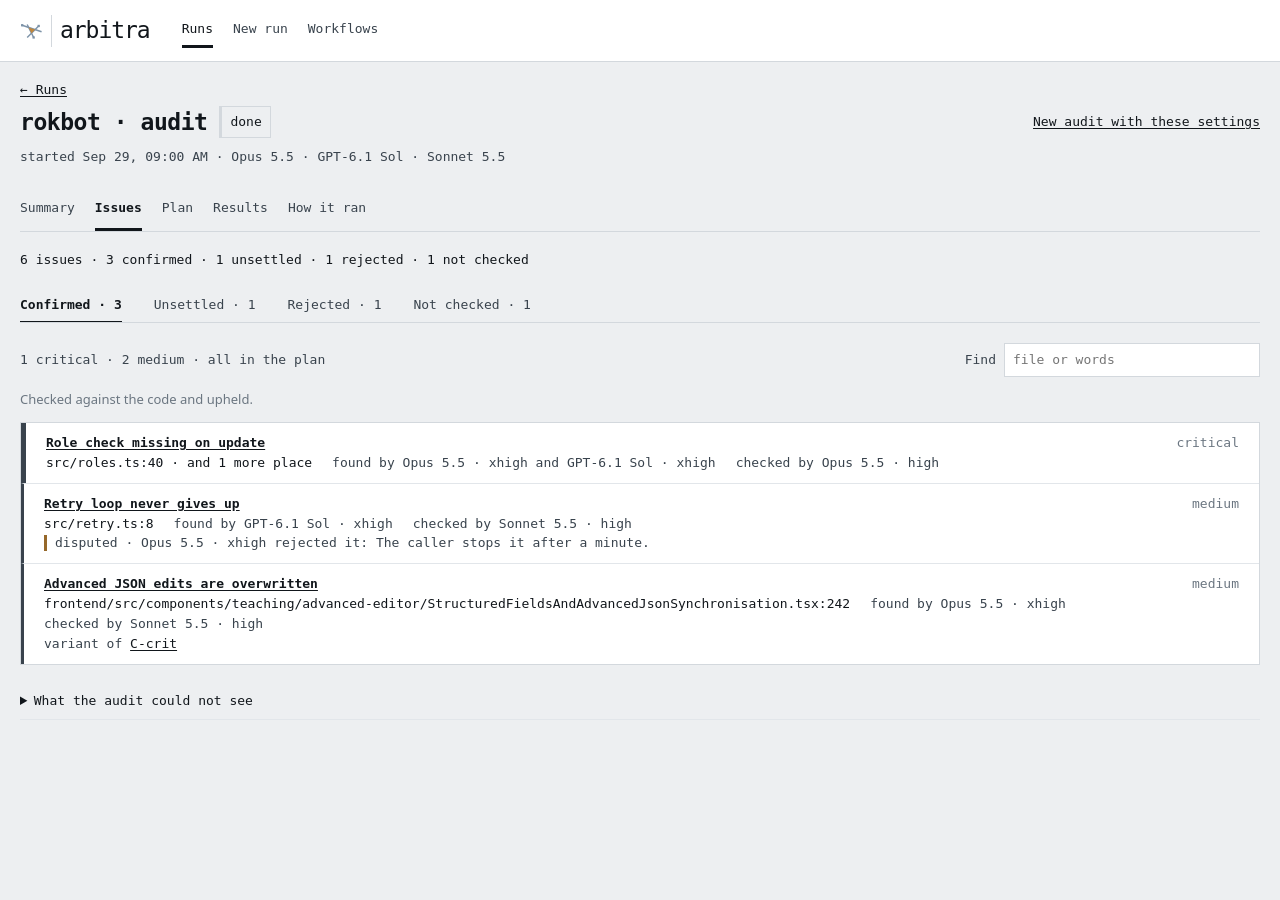
Test: the Issues tab › groups the issues by what the check decided, most severe first, each with its place, who found it and who checked it, by model and effort
Expected: the text "6 issues · 3 confirmed · 1 unsettled · 1 rejected · 1 not checked" is shown, left=20, top=252, right=529, bottom=267
Expected: the text "1 critical · 2 medium · all in the plan" is shown, left=20, top=352, right=325, bottom=368
What coordinates should you click on to do the following:
click the link "C-crit"
I would click on:
 (154, 643)
Its box is left=130, top=636, right=177, bottom=651.
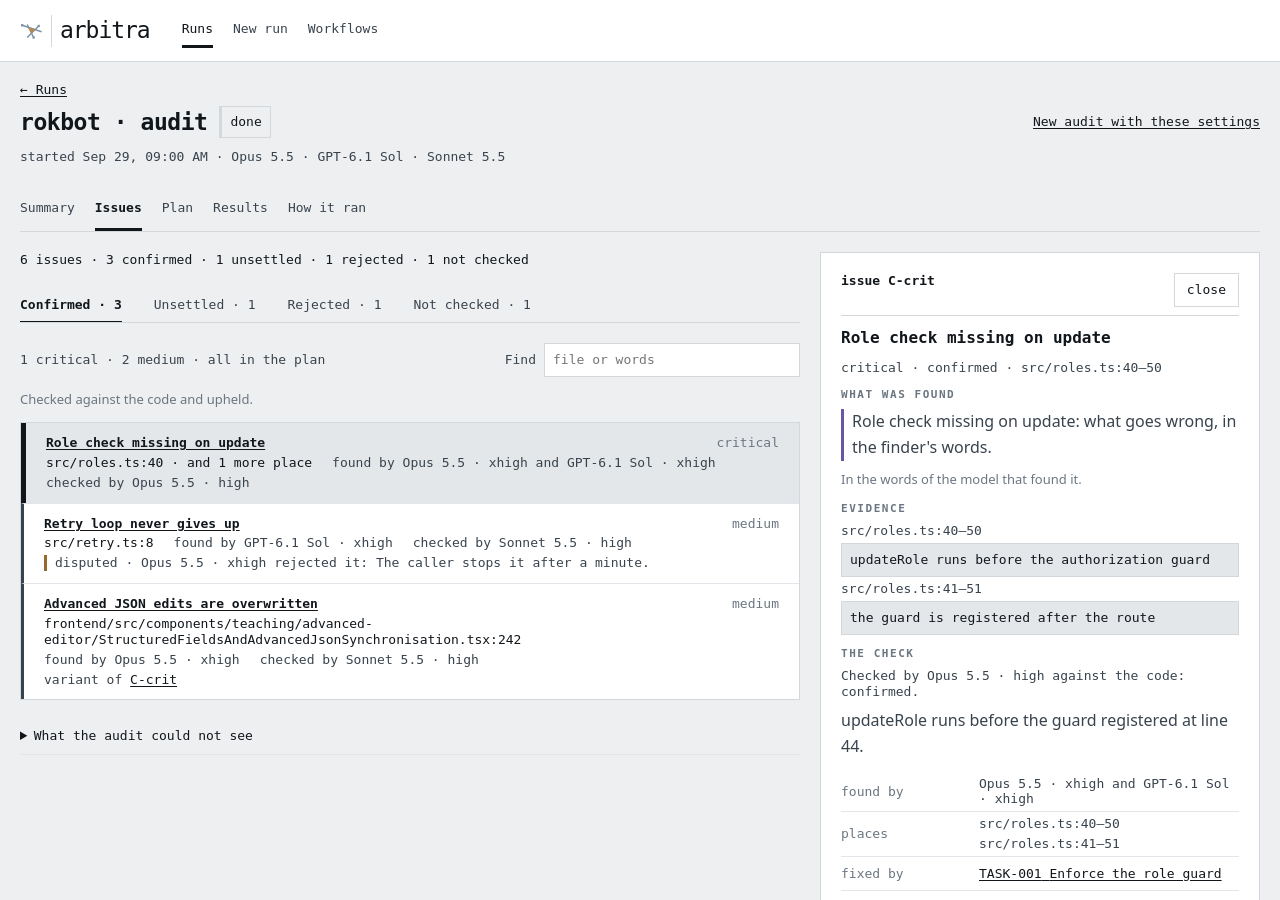
Expected: the list item that starts with "Advanced JSON edits are overwritten" shows "variant of C-crit", left=21, top=583, right=799, bottom=699
Expected: the text "variant" is not shown
What coordinates should you click on to do the following:
click the tab "Rejected · 1"
I would click on:
 (334, 305)
Its box is left=288, top=288, right=381, bottom=322.
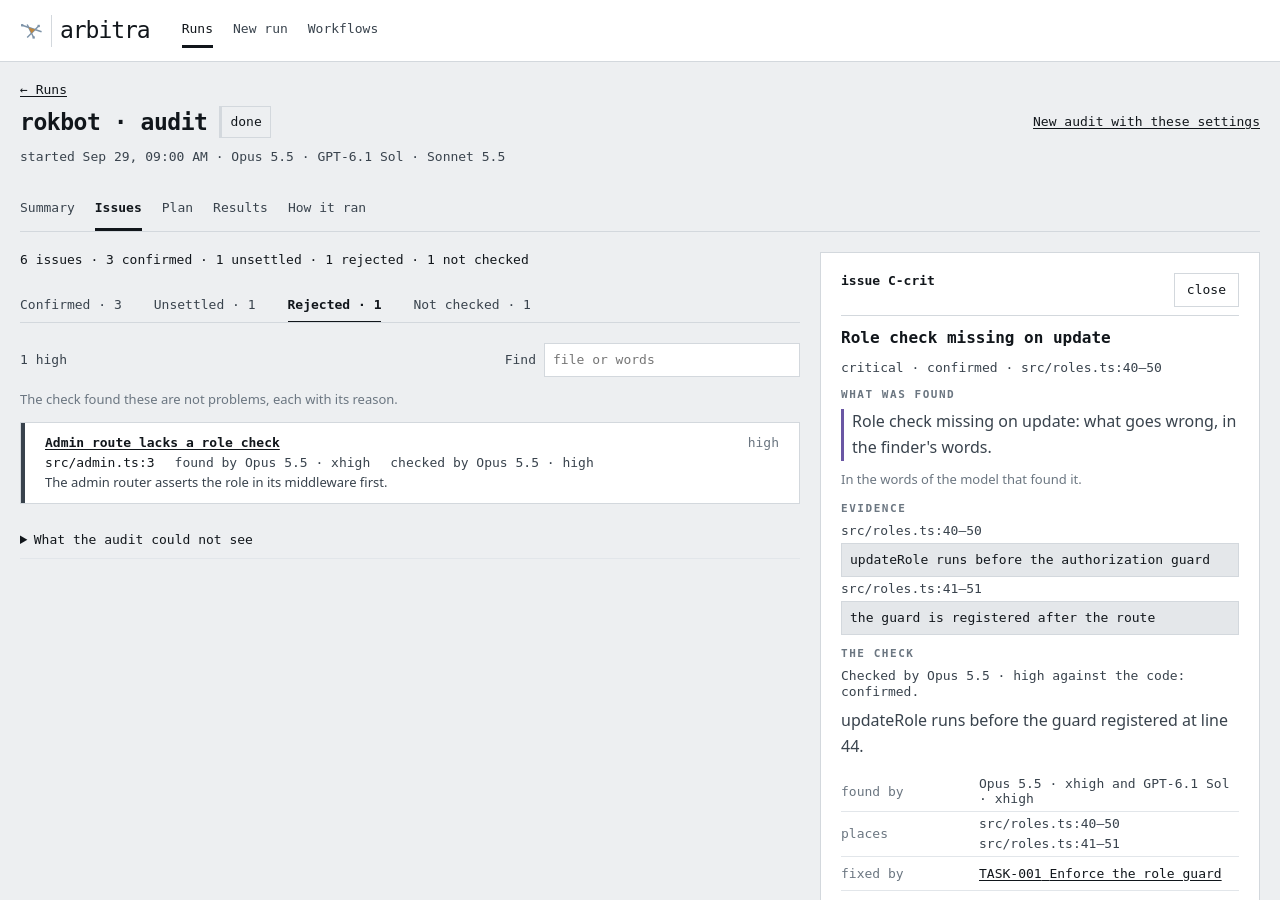
Expected: the text "The admin router asserts the role in its middleware first." is shown, left=45, top=473, right=388, bottom=491
What coordinates should you click on to do the following:
click the tab "Unsettled · 1"
I would click on:
 (205, 305)
Its box is left=154, top=288, right=256, bottom=322.
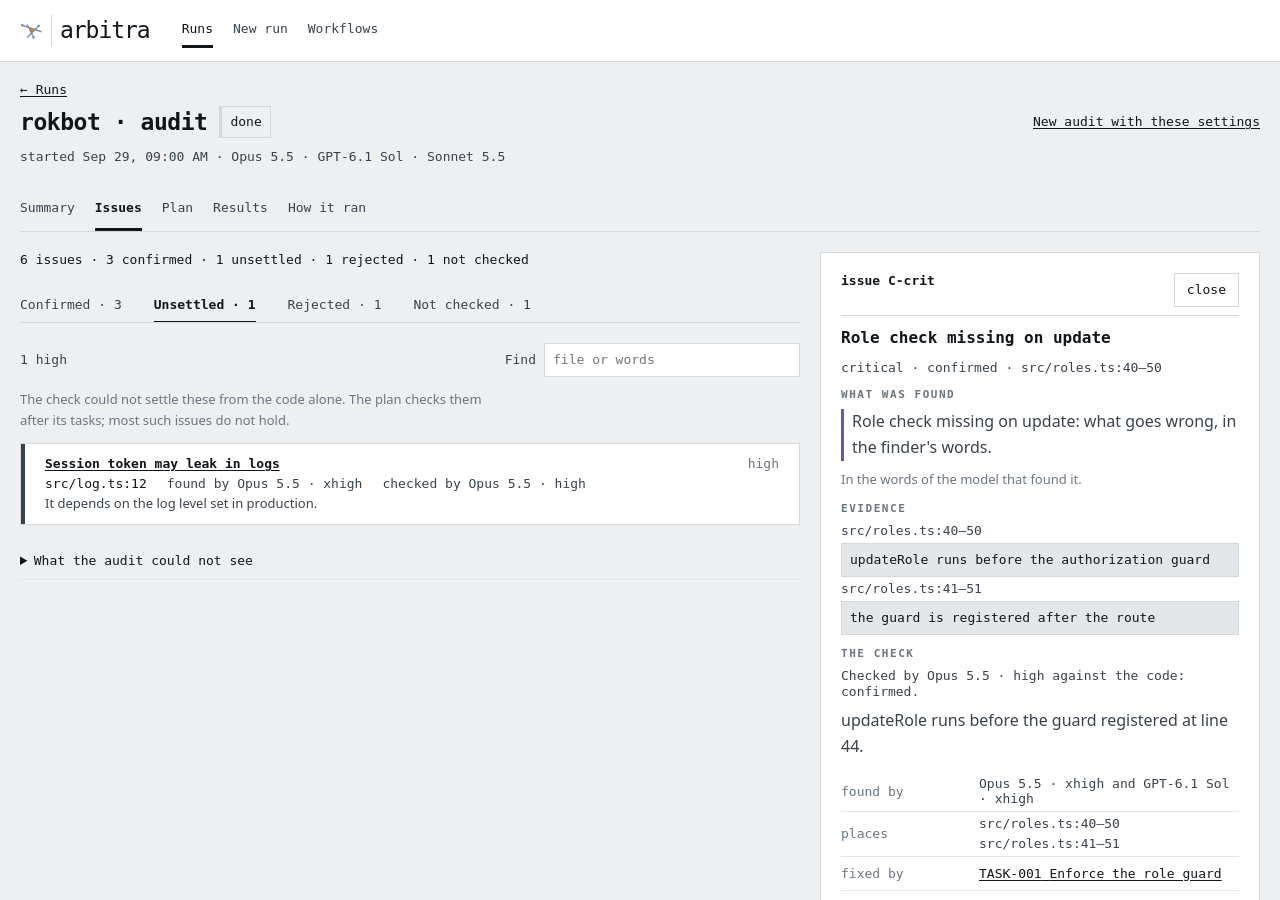
Expected: the text "The plan checks them after its tasks" is shown, left=20, top=390, right=482, bottom=429
What coordinates should you click on to do the following:
click the tab "Not checked · 1"
I would click on:
 (472, 305)
Its box is left=414, top=288, right=531, bottom=322.
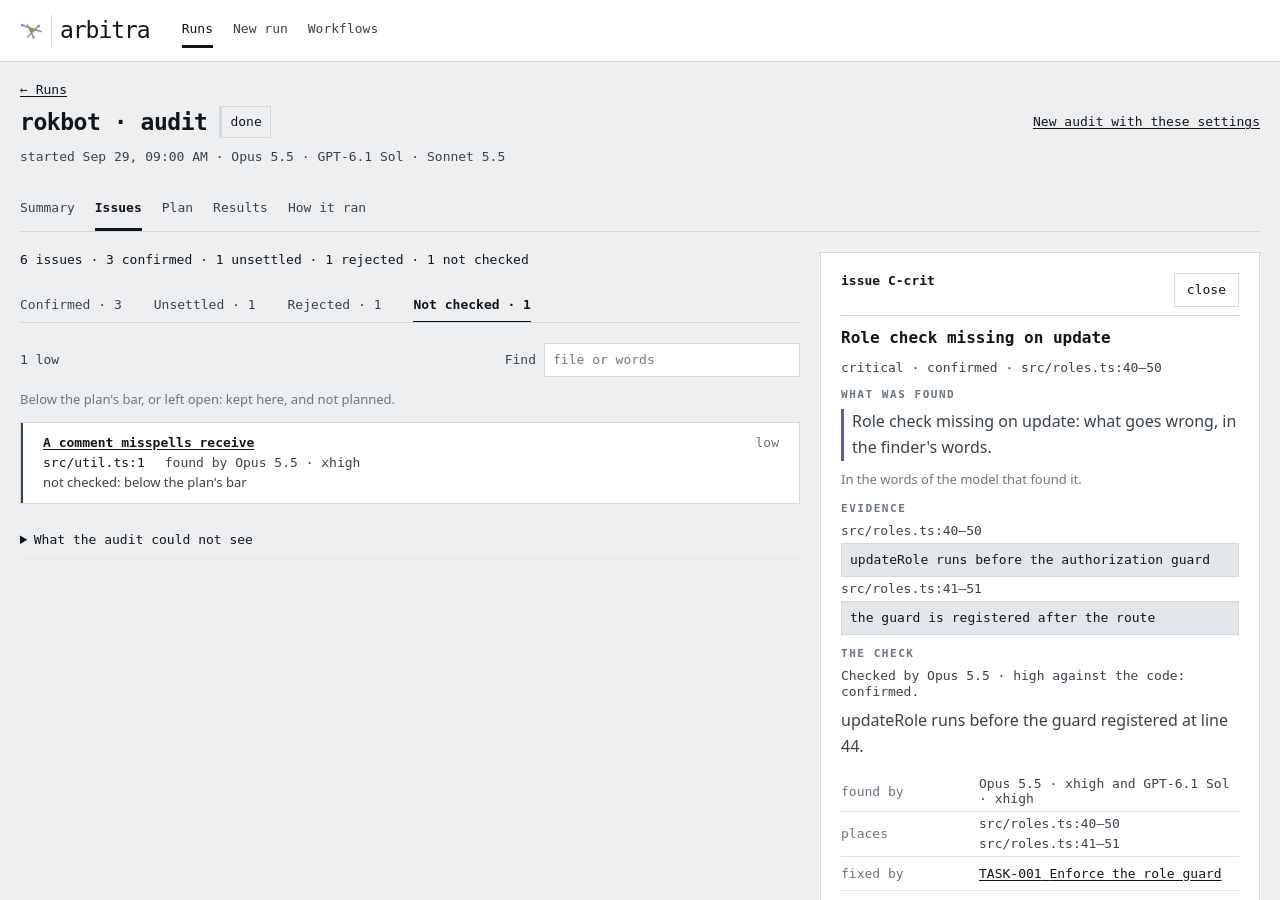
Expected: the text "not checked: below the plan's bar" is shown, left=43, top=473, right=247, bottom=491
